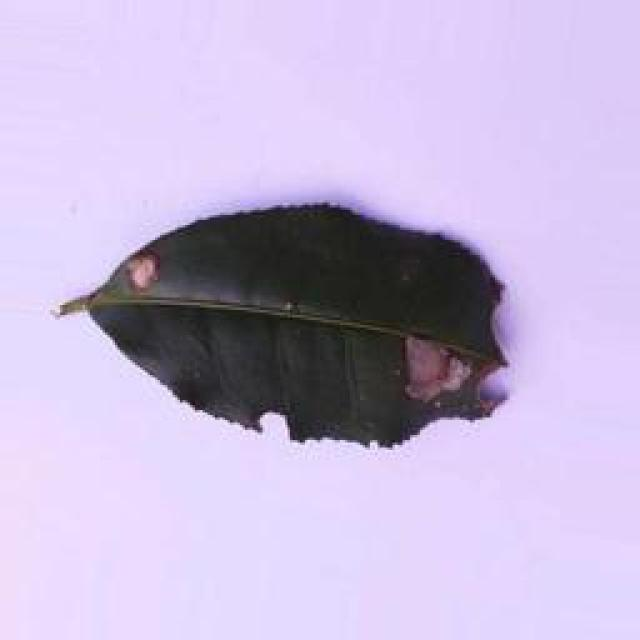Gray Blight: (57, 199, 509, 453)
